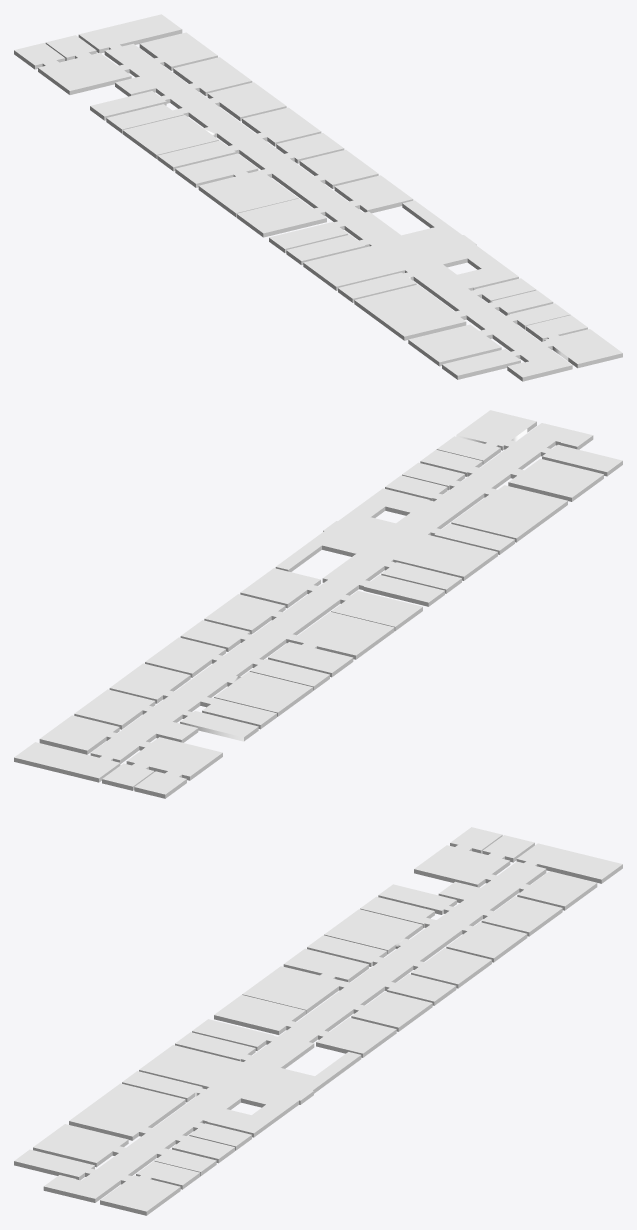
3 views of the same model, one above another, from view 1: azimuth 30°, elevation 25°; view 2: azimuth 150°, elevation 25°; view 3: azimuth 330°, elevation 25° (orthographic). The views are drawn at different scales.
Visible parts, largest first — view 1: 31.002; view 2: 31.002; view 3: 31.002.
Part boxes in pixels (x1,y1,x2,y2): 31.002: [14, 14, 622, 381]; 31.002: [14, 410, 622, 798]; 31.002: [14, 827, 622, 1215].
Size of the model in its own units: 320 by 8.52 by 1722.
1 material, 1 textured.
